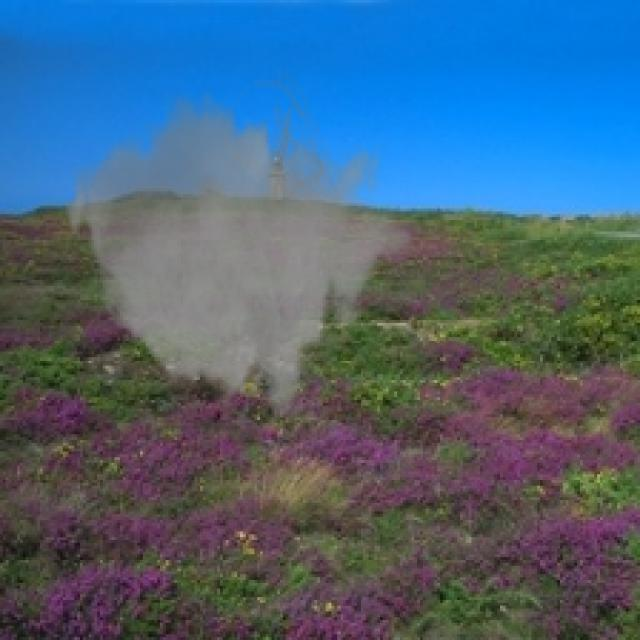smoke: (63, 63, 417, 431)
